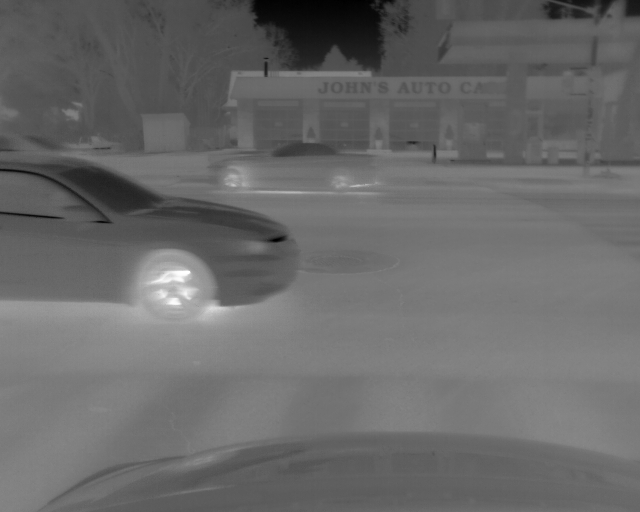car: (1, 148, 300, 321), (214, 138, 381, 193)
